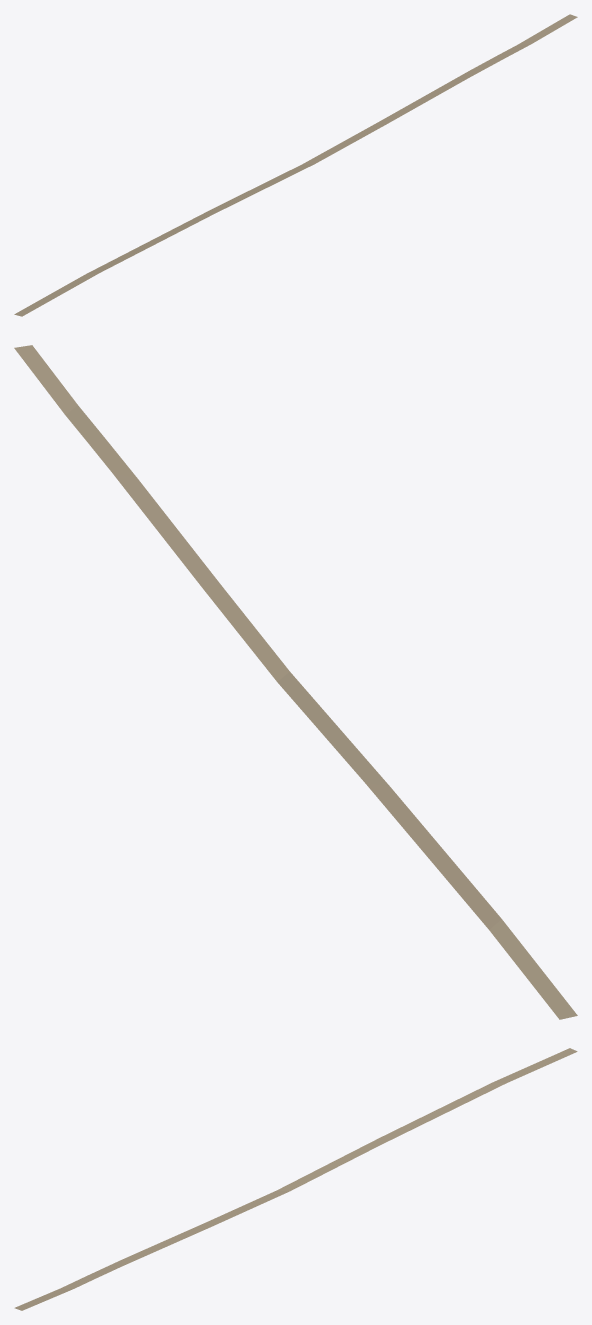
File: farm_-39_-48_track.glb
The picture shows the model from 3 angles, top to bottom: view 1: azimuth 90°, elevation 25°; view 2: azimuth 150°, elevation 25°; view 3: azimuth 270°, elevation 25°; orthographic projection. The views are drawn at different scales.
Parts seen in each view (by area): view 1: geometry_0; view 2: geometry_0; view 3: geometry_0.
Boxes of the visible parts, x1,y1,x2,y2 form: geometry_0: (14,14,577,316); geometry_0: (14,345,577,1019); geometry_0: (14,1048,577,1310).
Size of the model in its own units: 208 by 7.03 by 175.
